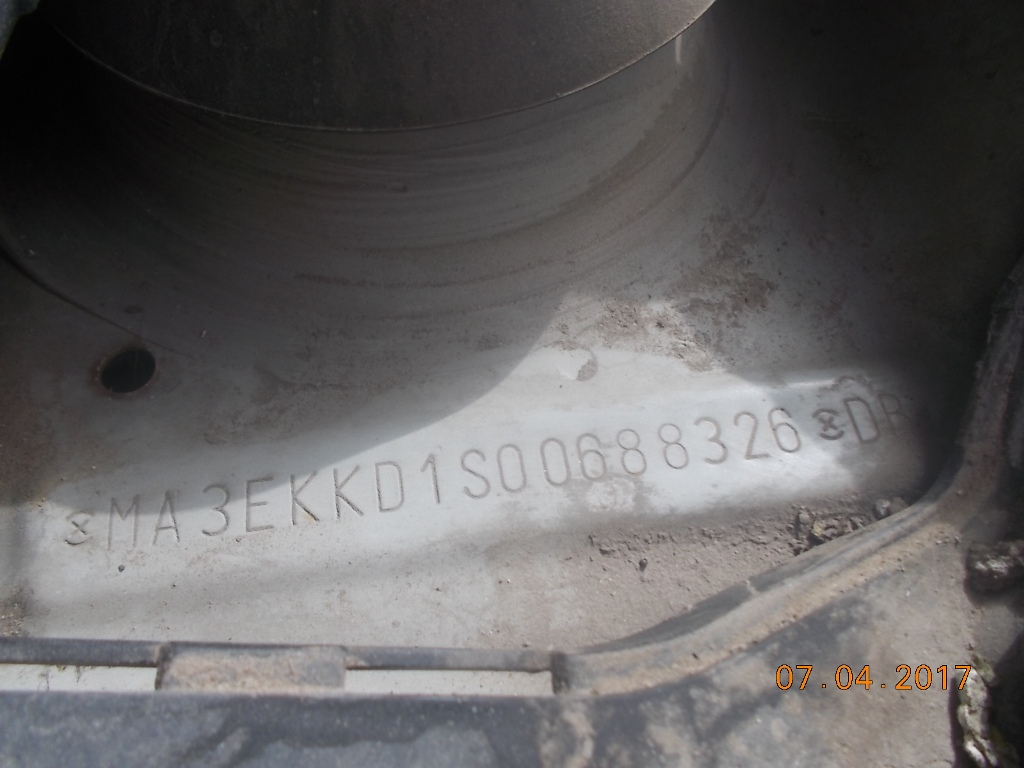Dent: (149, 304, 337, 378), (37, 326, 130, 404)
